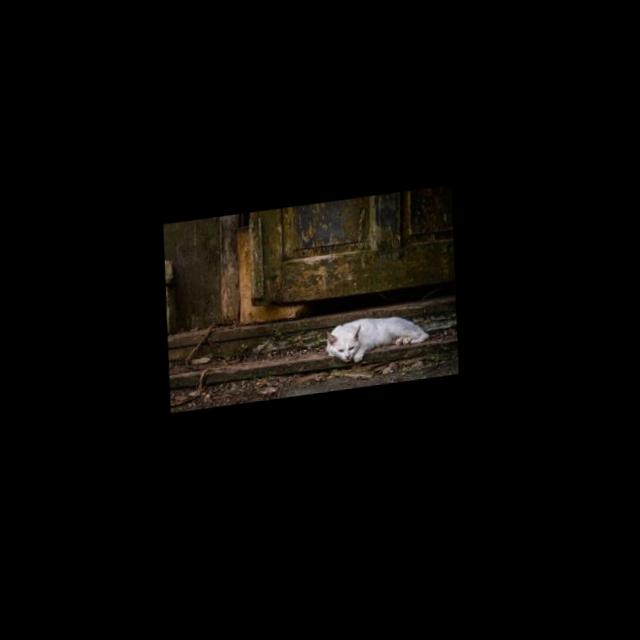animals: (324, 312, 437, 375)
